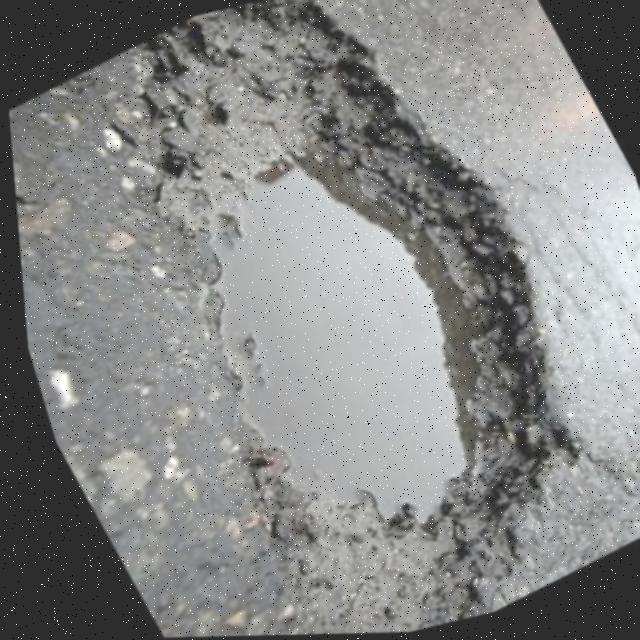Pothole: (8, 0, 640, 640)
